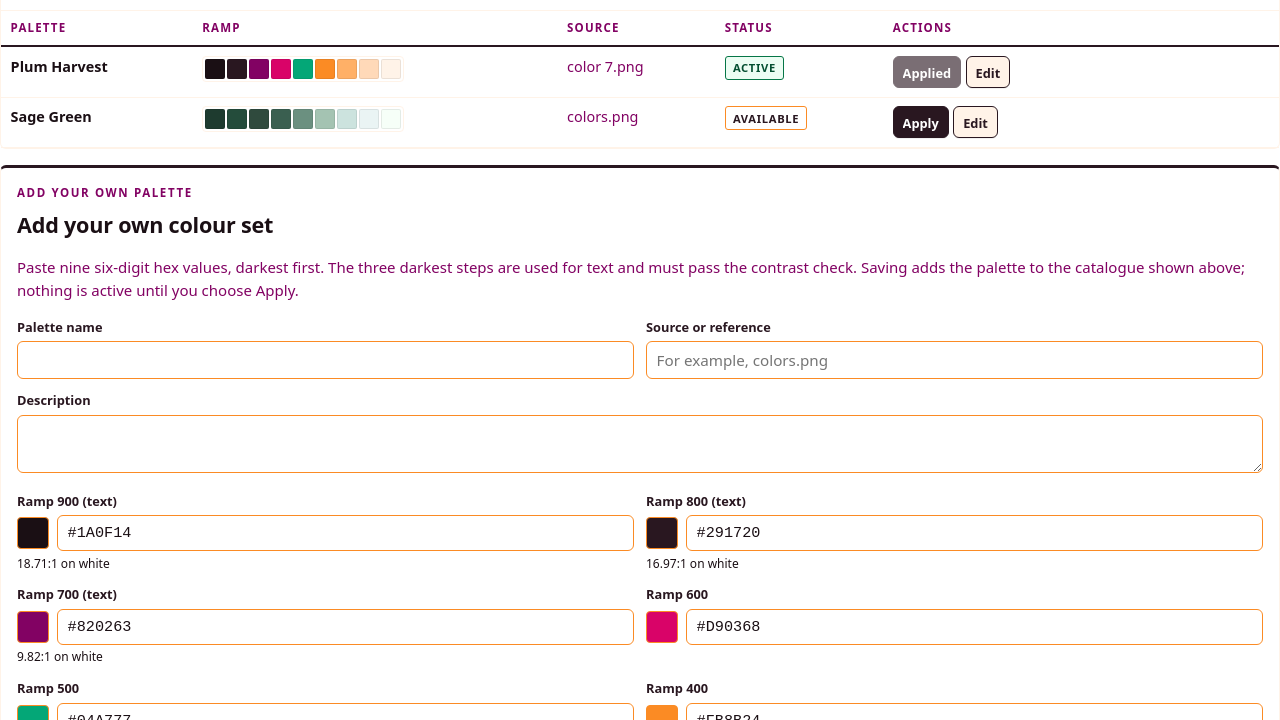
Test: ThemeManager › rejects text shades that fail contrast before saving
(page scrolled)
Type "Low contrast" into the field labelled "Palette name" at (326, 360), box left=17, top=341, right=634, bottom=379
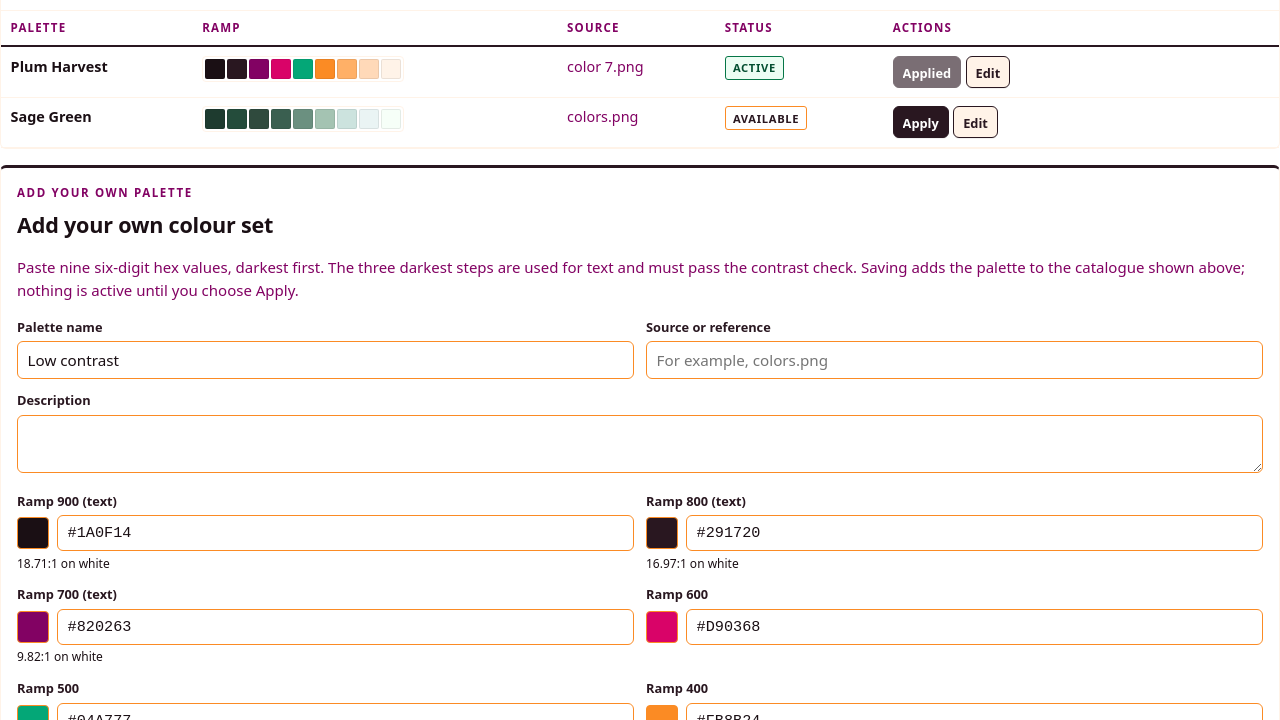
Replace the text in the field labelled "Ramp 700 (text)" with "#FFFFFF" at (346, 627), box left=57, top=609, right=634, bottom=645
(page scrolled)
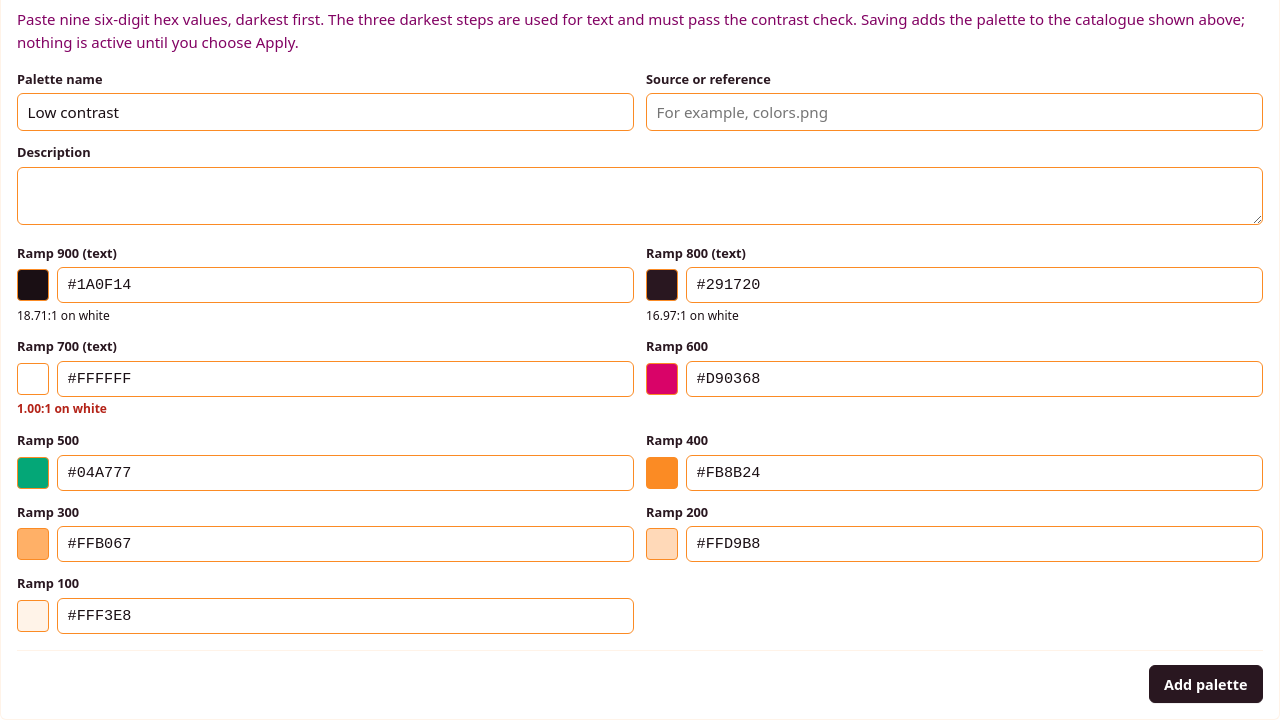
Click the button "Add palette" at (1206, 684), box left=1149, top=665, right=1263, bottom=702
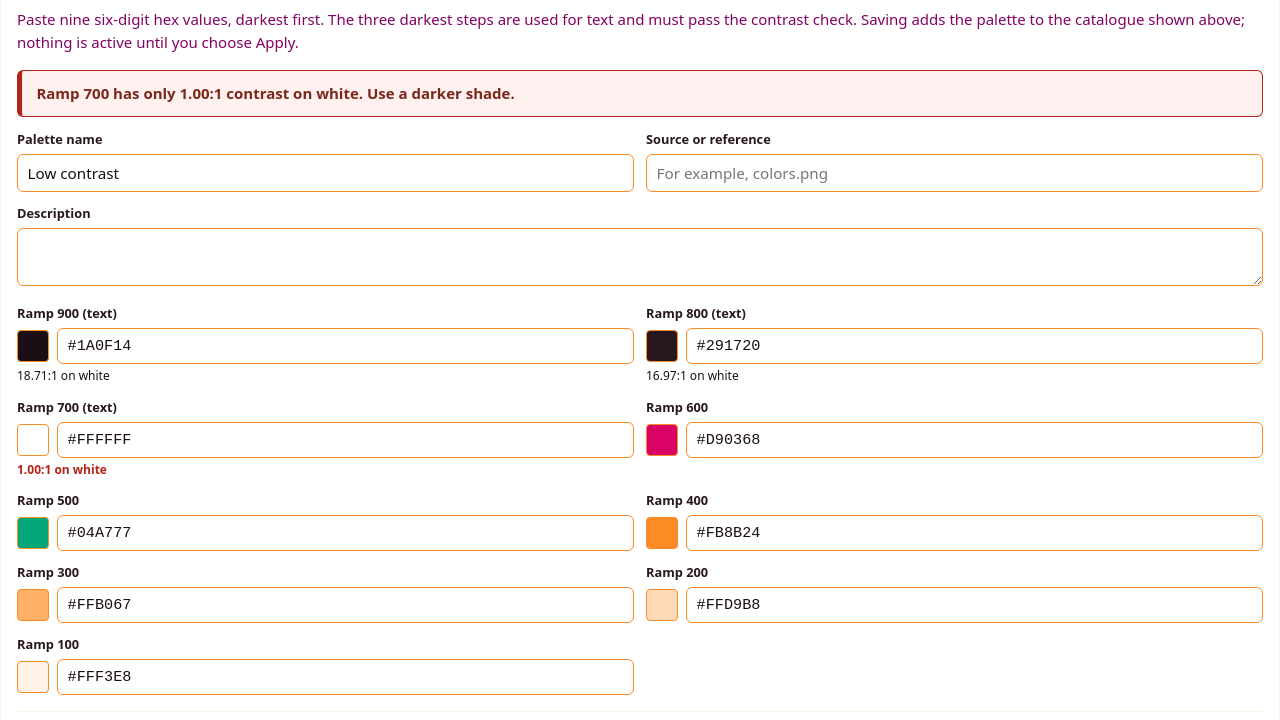
Expected: the message "Ramp 700 has only 1.00:1 contrast on white. Use a darker shade." is shown, left=17, top=70, right=1263, bottom=117
Expected: the message shows "contrast", left=36, top=83, right=515, bottom=103
